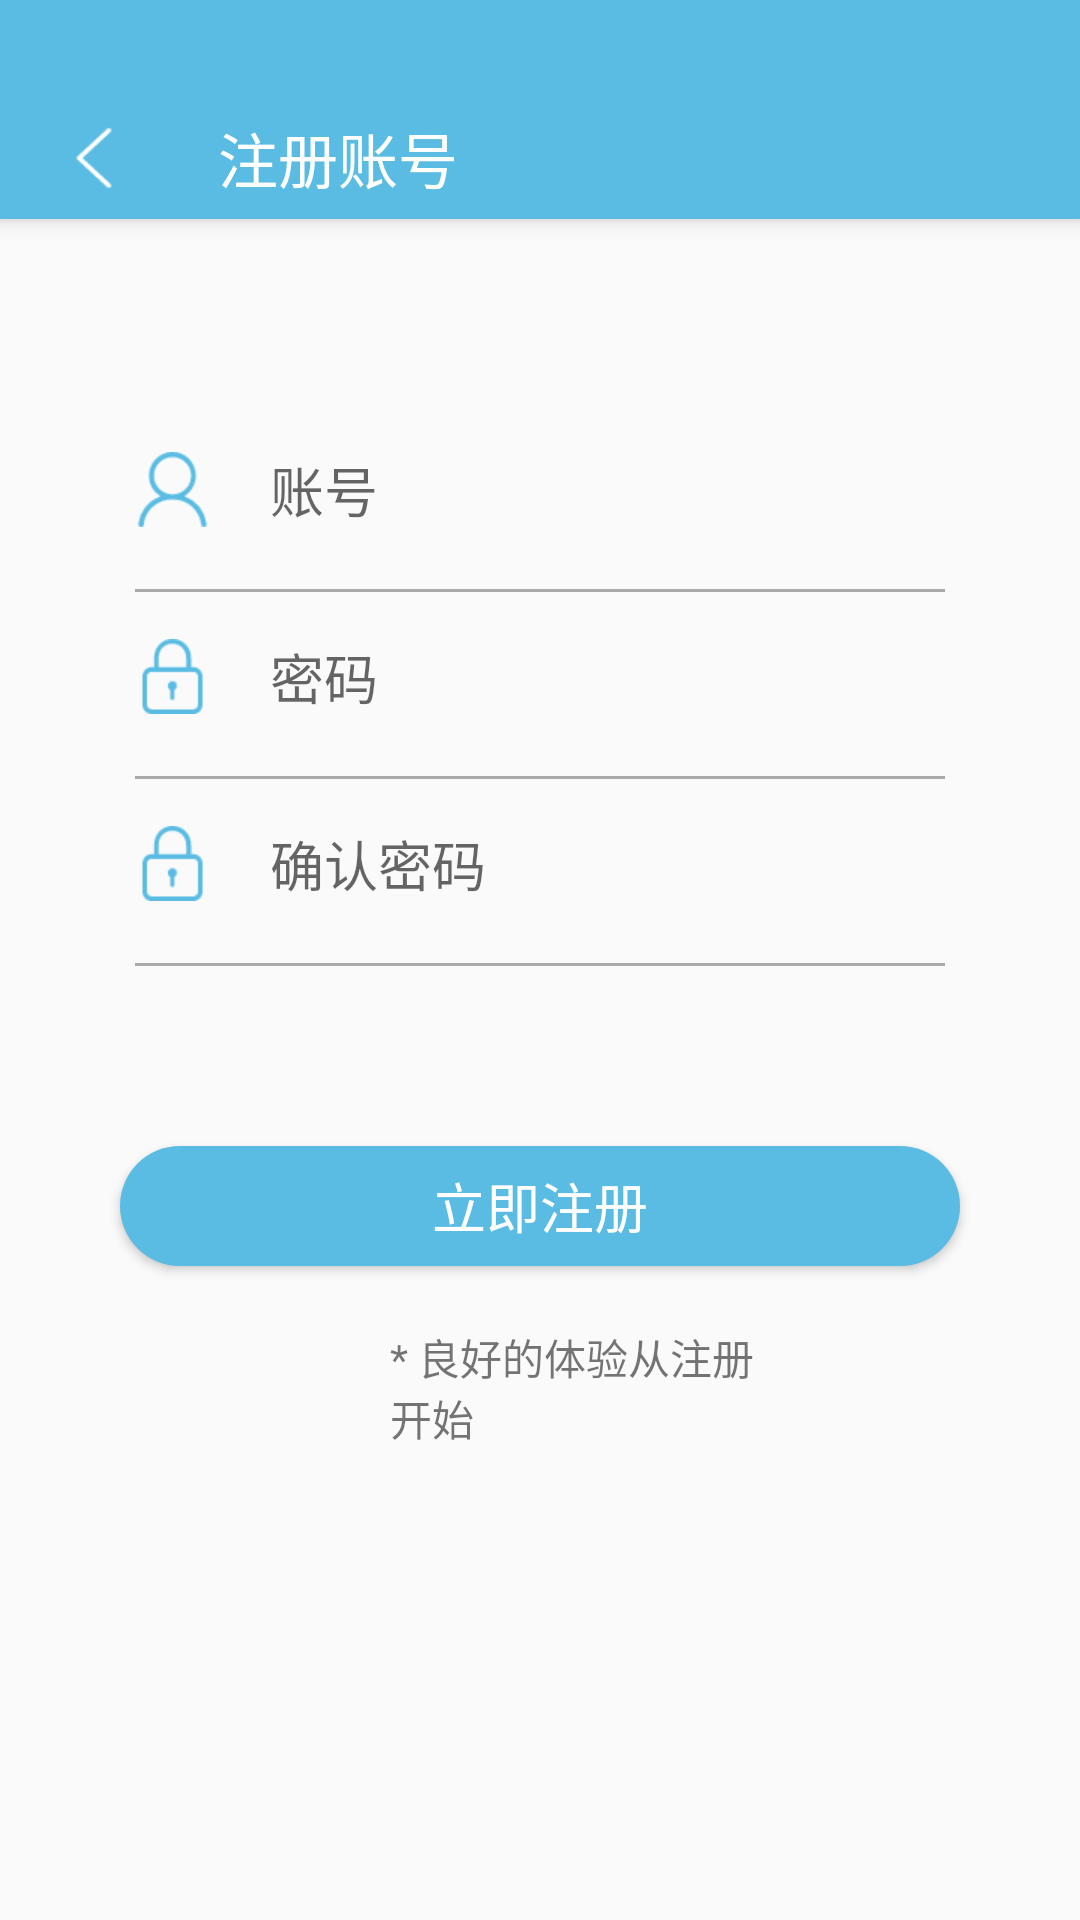

Icon click points for this 1080px×1920px phone screenshot, format (x,y):
return: (94,158)
